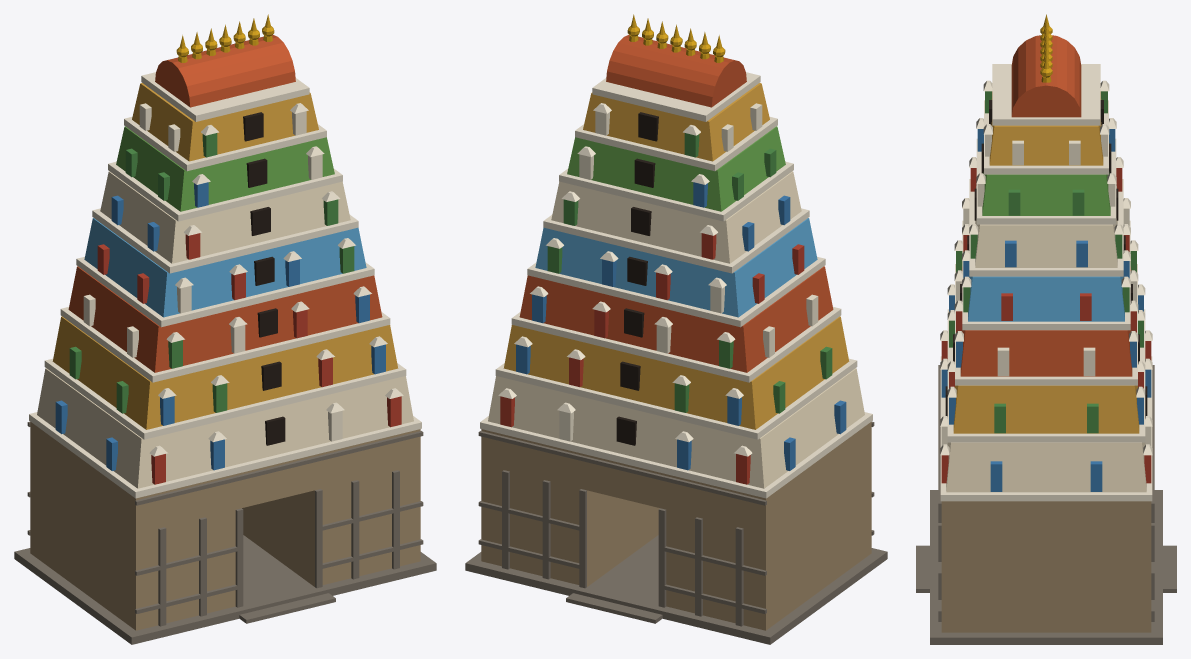
The model's file is bld_temple_gopuram.glb.
3 renders of one model, left to right at view 1: azimuth 30°, elevation 25°; view 2: azimuth 150°, elevation 25°; view 3: azimuth 270°, elevation 25°, orthographic.
Parts seen in each view (by area): view 1: bld_temple_gopuram; view 2: bld_temple_gopuram; view 3: bld_temple_gopuram.
Part boxes in pixels (bbox=[...]): bld_temple_gopuram: bbox=[14, 14, 436, 644]; bld_temple_gopuram: bbox=[465, 14, 887, 644]; bld_temple_gopuram: bbox=[916, 14, 1176, 644].
Size of what is drawn, in the model's own units: 15 by 25.42 by 11.2.
